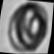correct: (2, 0, 52, 54)
